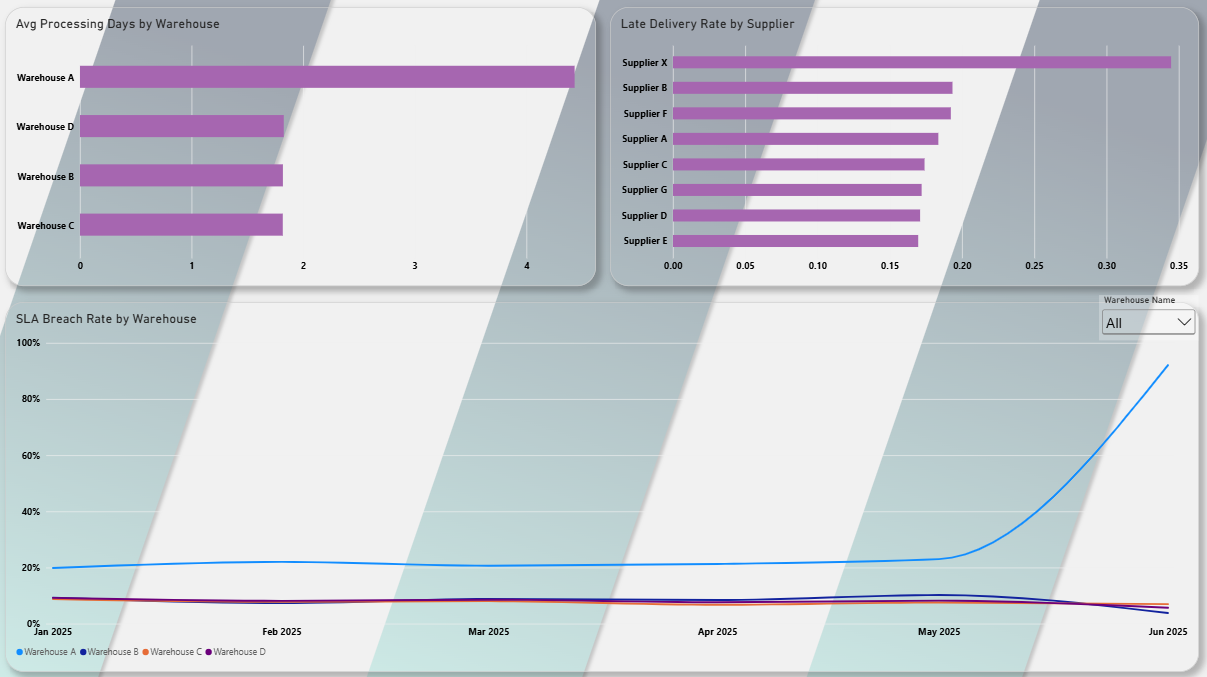

The dashboard page shown, as its layout file describes it:
{"tool":"powerbi","page":{"name":"Operations","canvas":[1920,1080],"ordinal":1},"visuals":[{"type":"clusteredBarChart","title":"Avg Processing Days by Warehouse","fields":{"Category":["vw_warehouse_performance.warehouse_name"],"Y":["Avg(vw_warehouse_performance.avg_processing_days)"]},"box":[11.7,11.7,938.3,443.3],"z":0},{"type":"clusteredBarChart","title":"Late Delivery Rate by Supplier","fields":{"Category":["vw_supplier_performance.supplier_name"],"Y":["Sum(vw_supplier_performance.supplier_late_rate)"]},"box":[971.7,11.7,935,443.3],"z":1000},{"type":"lineChart","title":"SLA Breach Rate by Warehouse","fields":{"Category":["vw_warehouse_performance.month"],"Series":["vw_warehouse_performance.warehouse_name"],"Y":["Avg(vw_warehouse_performance.sla_breach_rate)"]},"box":[11.7,480,1895,586.7],"z":2000},{"type":"slicer","fields":{"Values":["vw_warehouse_performance.warehouse_name"]},"box":[1748.3,468.3,158.3,71.7],"z":3000}]}

Visuals, with their boxes in screenshot pixels (x1, y1, x2, y2), scaled from the page's 1920x1080 canvas onto the 1207x677 screenshot:
"Avg Processing Days by Warehouse" clusteredBarChart: {"left": 7, "top": 7, "right": 597, "bottom": 285}
"Late Delivery Rate by Supplier" clusteredBarChart: {"left": 611, "top": 7, "right": 1199, "bottom": 285}
"SLA Breach Rate by Warehouse" lineChart: {"left": 7, "top": 301, "right": 1199, "bottom": 669}
slicer - vw_warehouse_performance.warehouse_name: {"left": 1099, "top": 294, "right": 1199, "bottom": 338}
